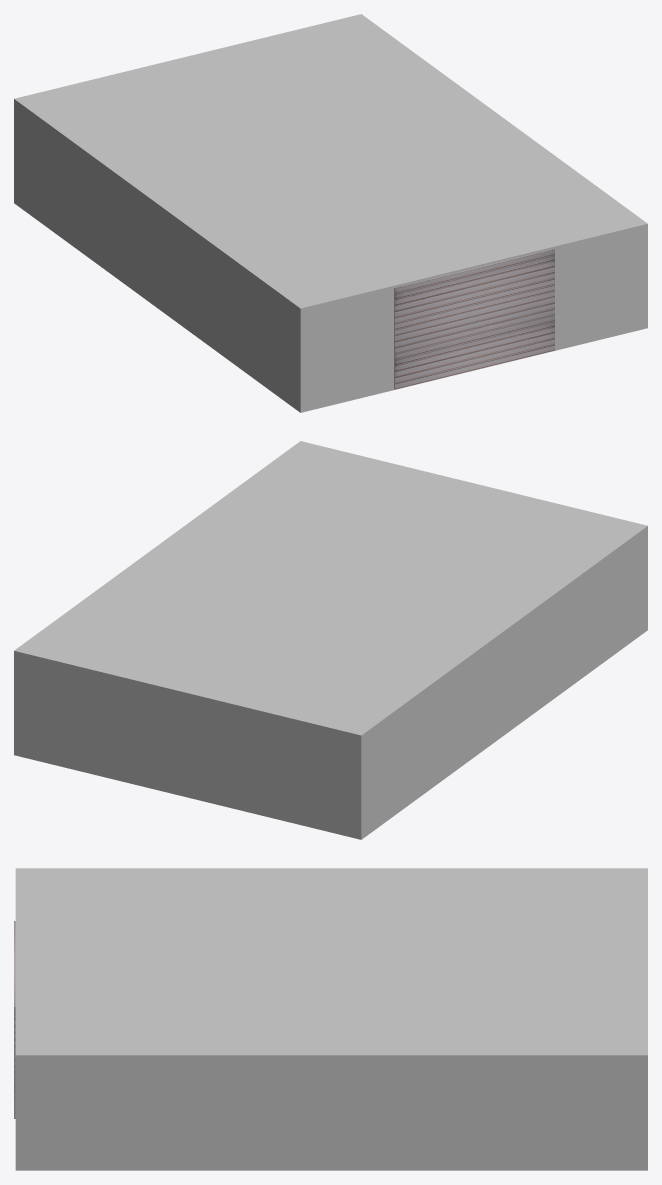
Rendered from garage.fbx.
3 renders of one model, top to bottom at view 1: azimuth 30°, elevation 25°; view 2: azimuth 150°, elevation 25°; view 3: azimuth 270°, elevation 25°, orthographic. The views are drawn at different scales.
Parts seen in each view (by area): view 1: ceiling, walls, gate; view 2: ceiling, walls; view 3: ceiling, walls.
Boxes of the visible parts, x1=… form: ceiling: x1=14, y1=14, x2=647, y2=308; walls: x1=14, y1=99, x2=647, y2=412; gate: x1=394, y1=248, x2=554, y2=389; ceiling: x1=14, y1=441, x2=647, y2=735; walls: x1=14, y1=526, x2=647, y2=839; ceiling: x1=15, y1=868, x2=647, y2=1055; walls: x1=15, y1=1055, x2=647, y2=1170.
Bounding box in the file's own units: 1400 × 402 × 2005.
